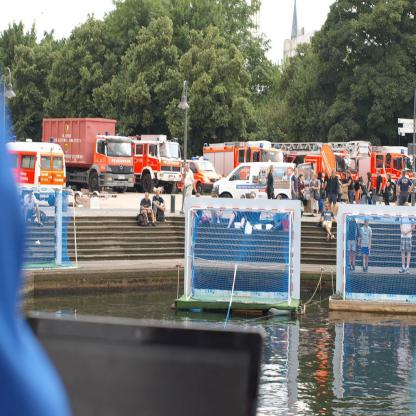Car: (174, 142, 223, 195)
Truck: (42, 117, 137, 189), (298, 144, 368, 204), (211, 160, 298, 201), (131, 134, 184, 193), (202, 139, 282, 177), (368, 151, 415, 195)
